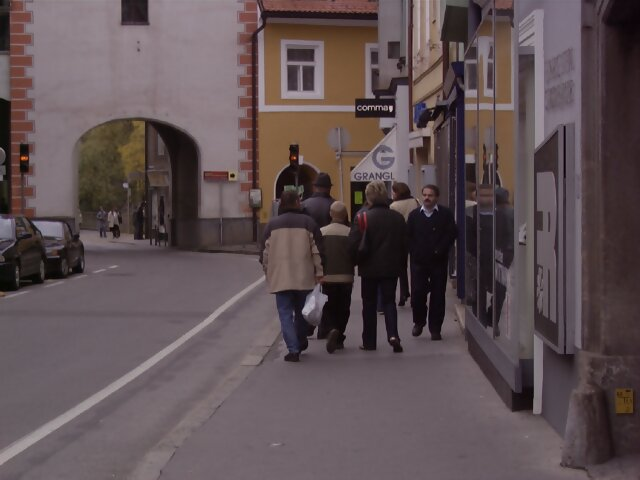person: (259, 183, 323, 367), (351, 177, 410, 365), (407, 180, 457, 349)
